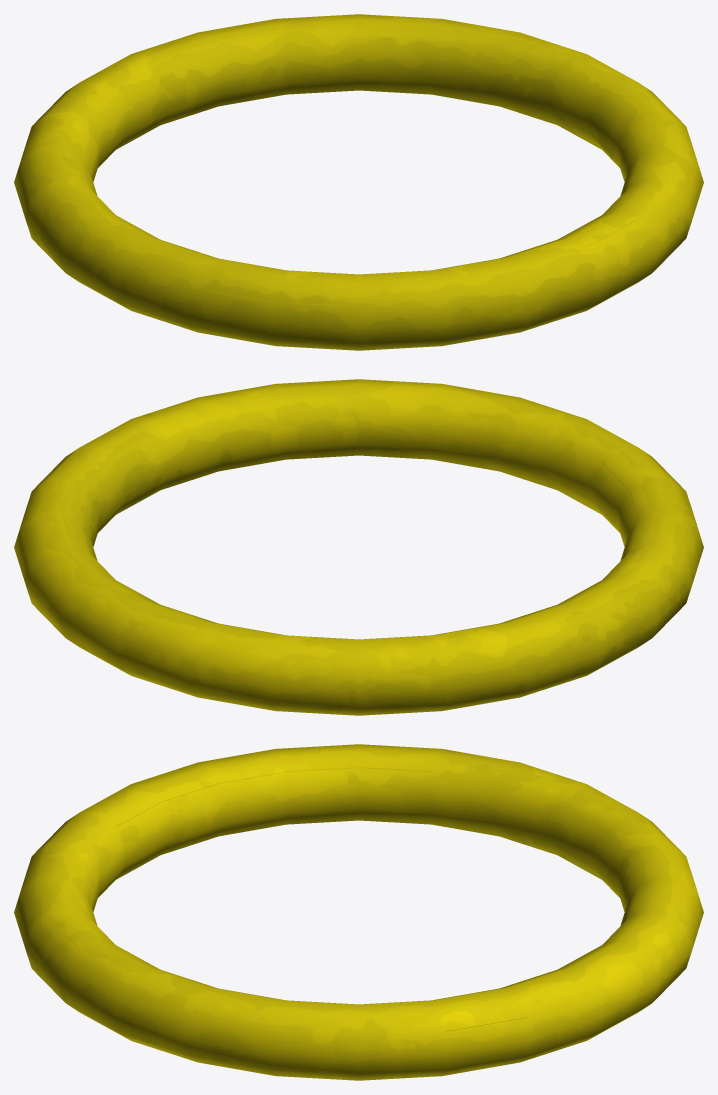
3 renders of one model, top to bottom at view 1: azimuth 30°, elevation 25°; view 2: azimuth 150°, elevation 25°; view 3: azimuth 270°, elevation 25°, orthographic.
Parts seen in each view (by area): view 1: Torus; view 2: Torus; view 3: Torus.
Boxes of the visible parts, box(x1,y1,x2,y2) form: Torus: box(14, 14, 703, 350); Torus: box(14, 379, 703, 715); Torus: box(14, 744, 703, 1080).
Bounding box in the file's own units: 2.16 × 0.241 × 2.16.
1 material, 1 textured.
